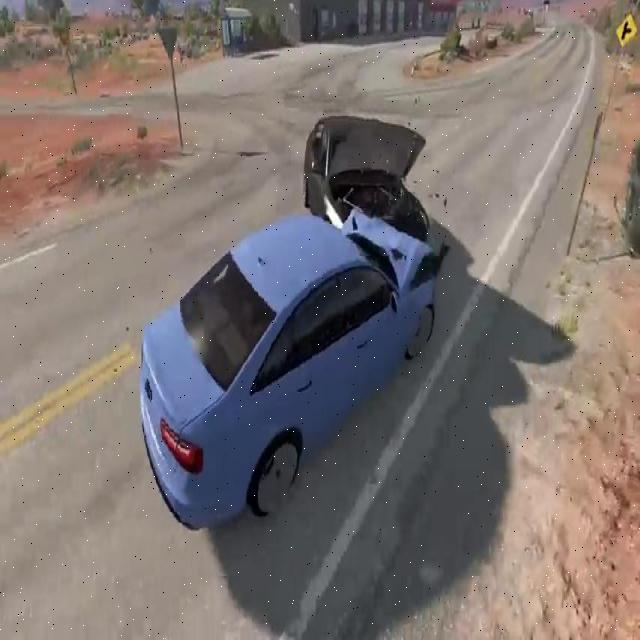moderate: (130, 89, 450, 532)
